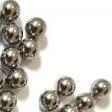ironball: (32, 87, 62, 111), (0, 0, 24, 22), (92, 76, 111, 103), (0, 44, 22, 67), (2, 22, 22, 45), (7, 67, 27, 89), (57, 75, 77, 96), (18, 40, 40, 59), (0, 89, 18, 111), (27, 16, 46, 36), (76, 94, 95, 112), (0, 62, 9, 90), (59, 103, 78, 111)
